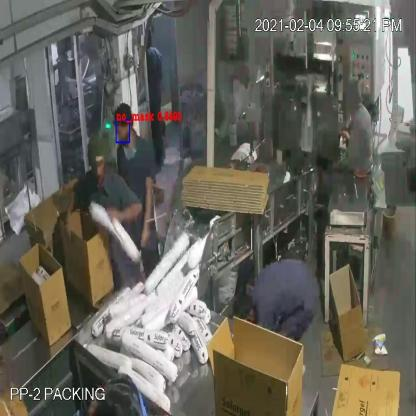no_glove: (134, 162, 156, 268), (100, 196, 145, 234), (63, 186, 88, 249)
